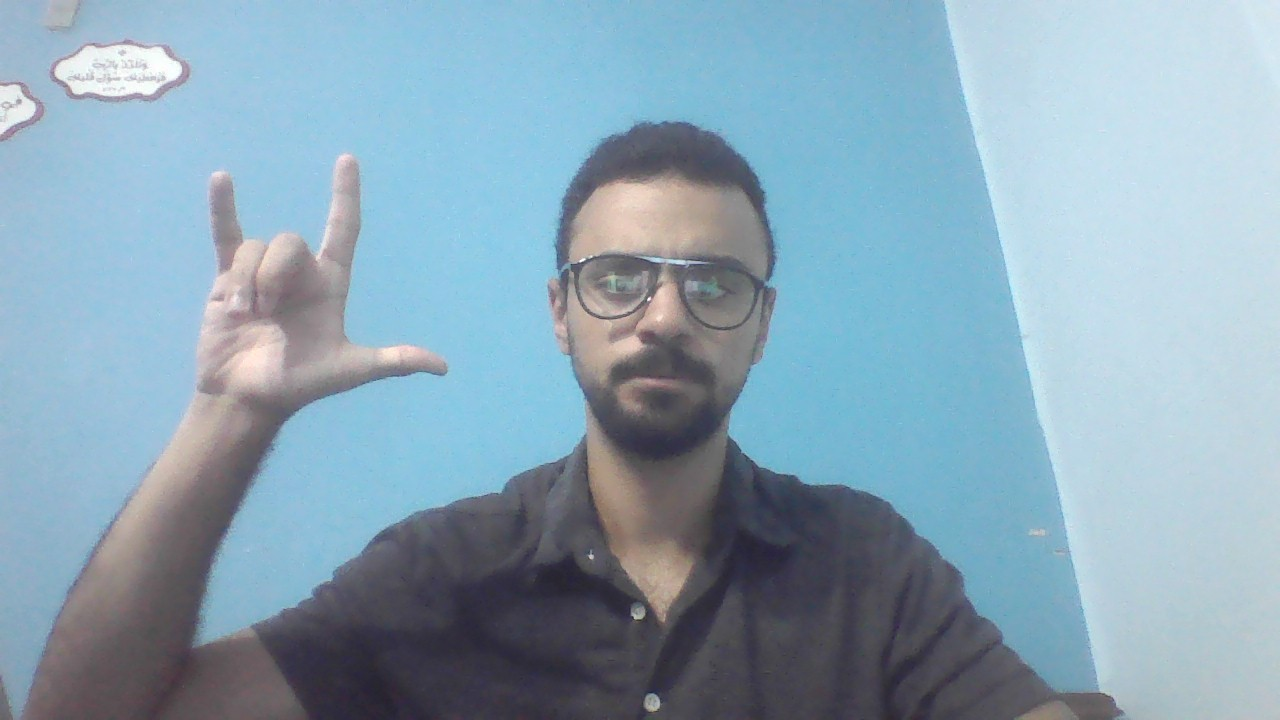love: (186, 153, 453, 402)
